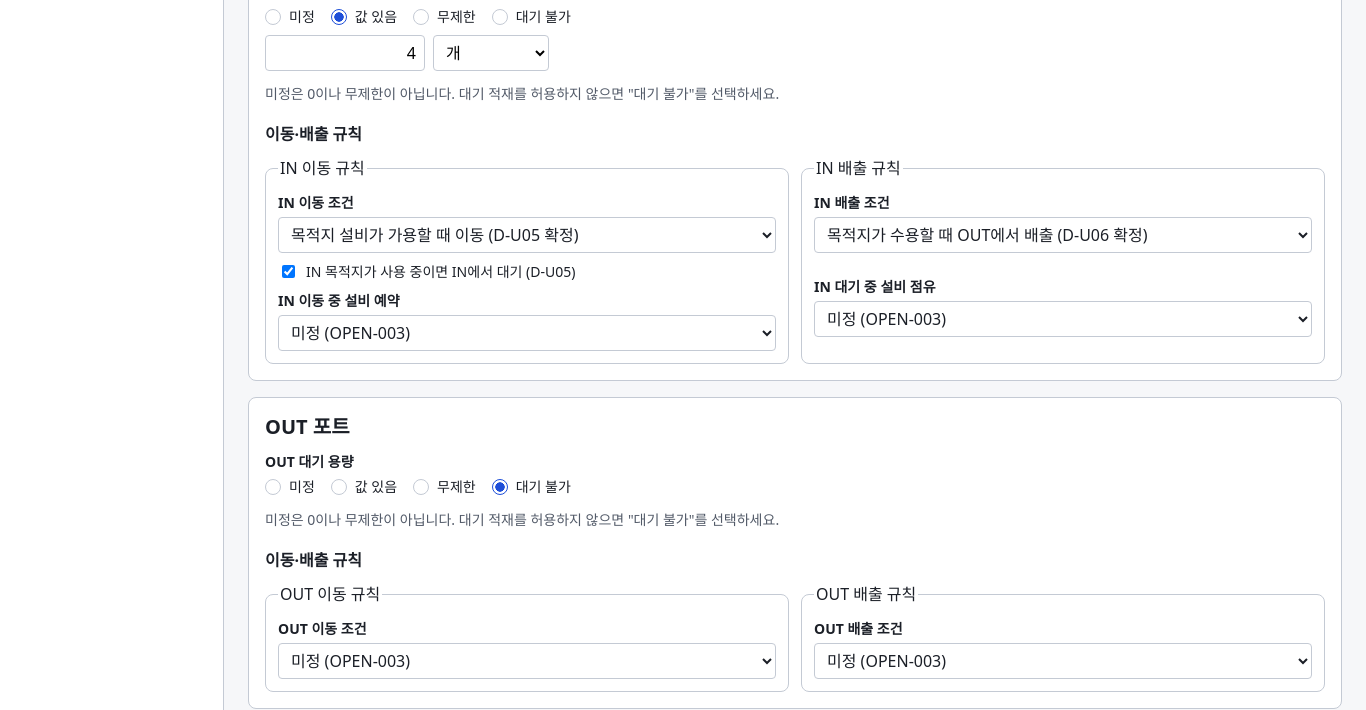
Test: 용량·규칙 저장 (PATCH /asset-revisions/{id}) › 규칙을 바꾸면 규칙 객체 전체를 보내고 용량은 보내지 않는다
(page scrolled)
Expected: the dropdown labelled "IN 이동 조건" is shown, [278, 217, 776, 253]
Select "이동 중 예약" in the dropdown labelled "IN 이동 중 설비 예약" at [527, 333], box [278, 315, 776, 351]
(page scrolled)
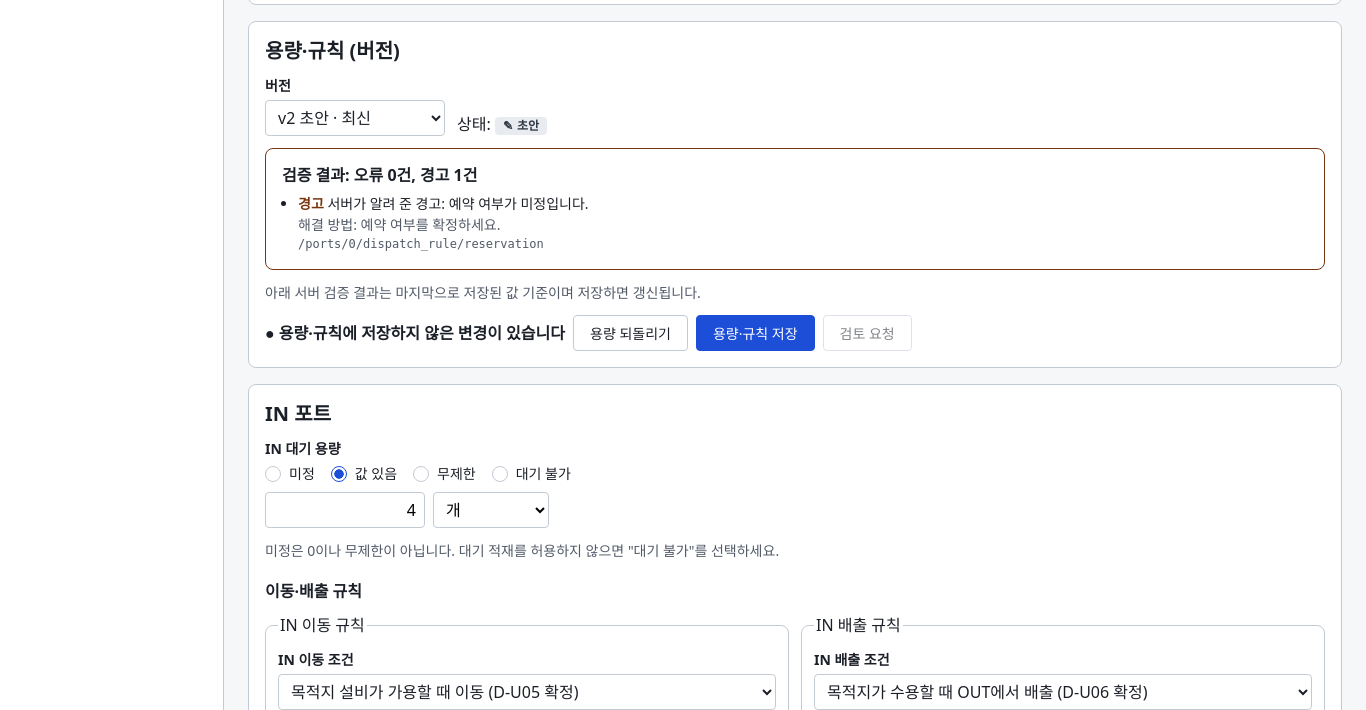
Click the button "용량·규칙 저장".
click(755, 333)  # box [696, 315, 815, 351]
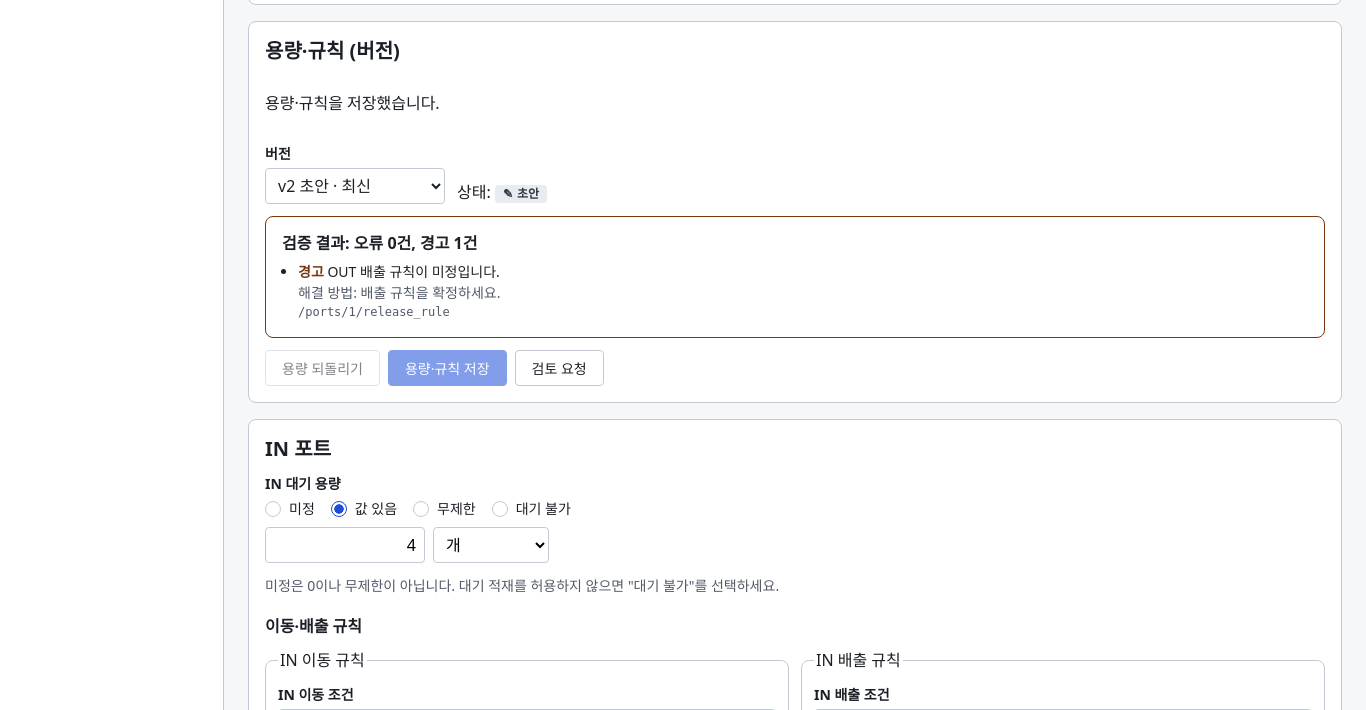
Expected: the text "용량·규칙을 저장했습니다." is shown, [265, 92, 440, 114]
